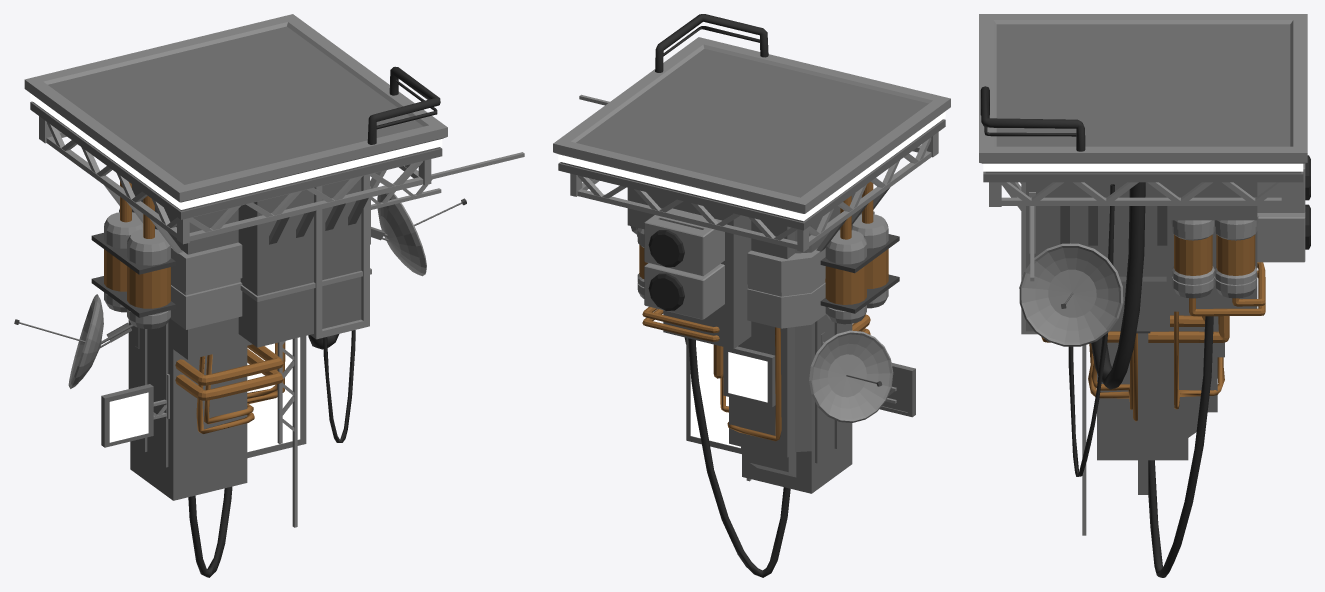
File: platform_2x2.glb
3 views of the same model, side by side, from view 1: azimuth 30°, elevation 25°; view 2: azimuth 150°, elevation 25°; view 3: azimuth 270°, elevation 25° (orthographic). The views are drawn at different scales.
Parts seen in each view (by area): view 1: Platform_2x2; view 2: Platform_2x2; view 3: Platform_2x2.
Boxes of the visible parts, box(x1,y1,x2,y2) form: Platform_2x2: box(14, 14, 524, 577); Platform_2x2: box(553, 14, 950, 577); Platform_2x2: box(979, 14, 1310, 577).
Size of the model in its own units: 3.31 by 3.83 by 2.16.
